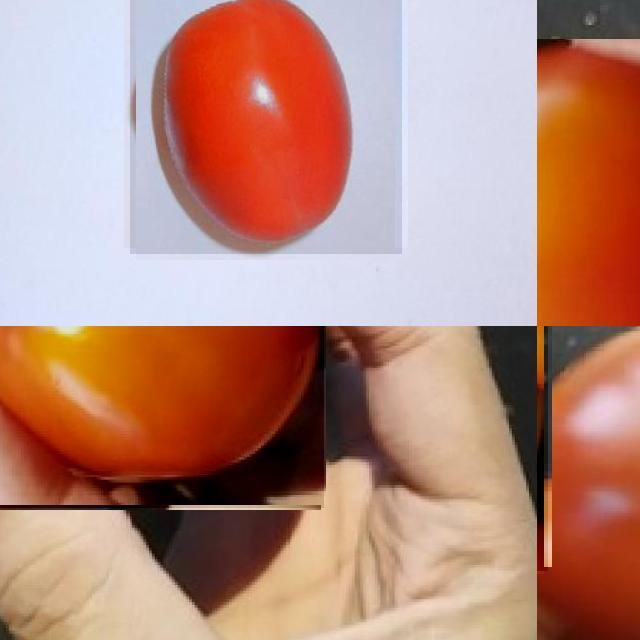Fresh Tomato: (130, 0, 401, 254), (0, 326, 323, 507), (537, 326, 640, 640), (537, 39, 640, 326)
